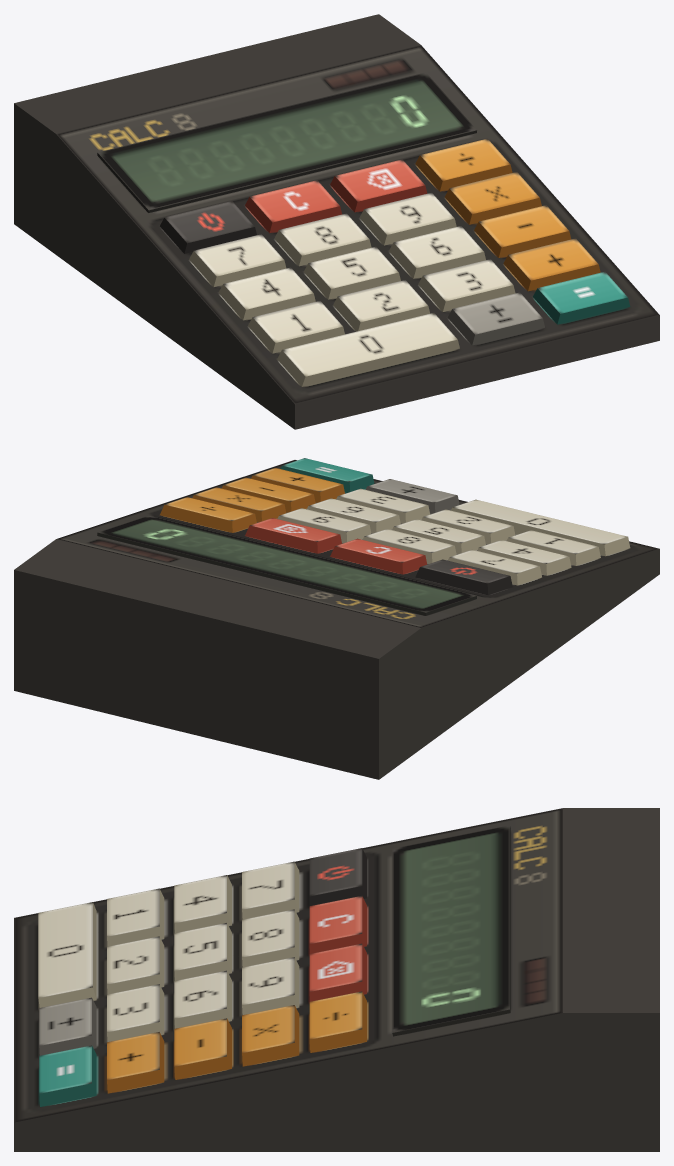
Rendered from calc.gltf.
3 views of the same model, one above another, from view 1: azimuth 30°, elevation 25°; view 2: azimuth 150°, elevation 25°; view 3: azimuth 270°, elevation 25° (orthographic). The views are drawn at different scales.
Parts seen in each view (by area): view 1: calculator; view 2: calculator; view 3: calculator.
Boxes of the visible parts, <box> form: calculator: <box>14,14,659,429</box>; calculator: <box>14,458,659,779</box>; calculator: <box>14,808,659,1151</box>.
Size of the model in its own units: 60 by 20 by 80.
1 material, 1 textured.
